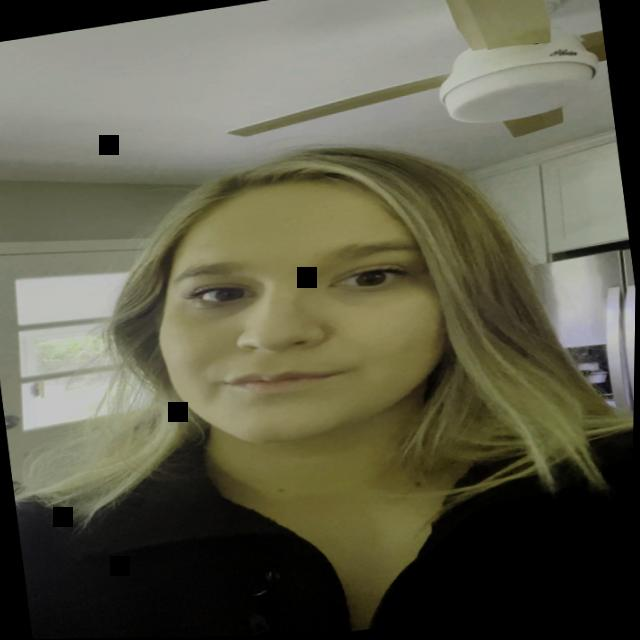NO-Mask: (113, 140, 523, 490)
